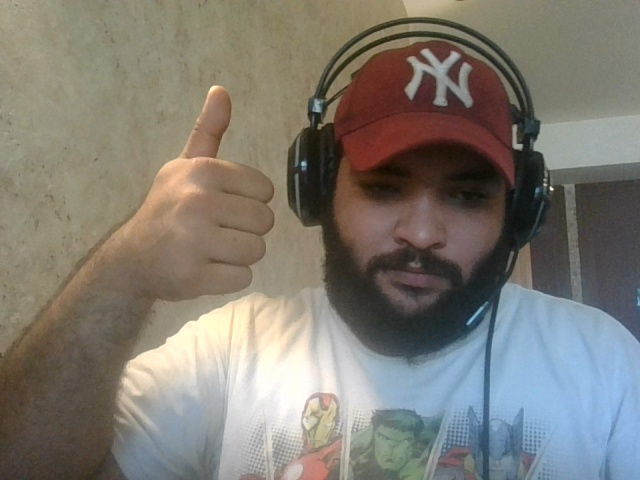yes: (129, 82, 281, 314)
